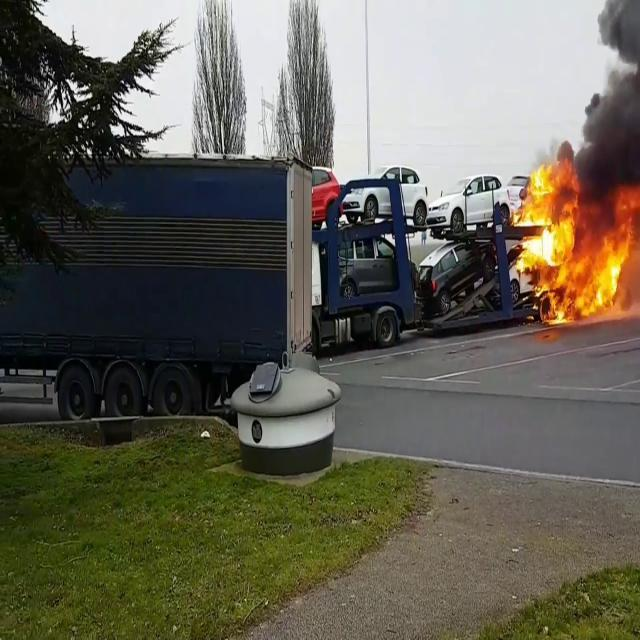Fire: (508, 159, 640, 325)
Smoke: (564, 0, 640, 203)
